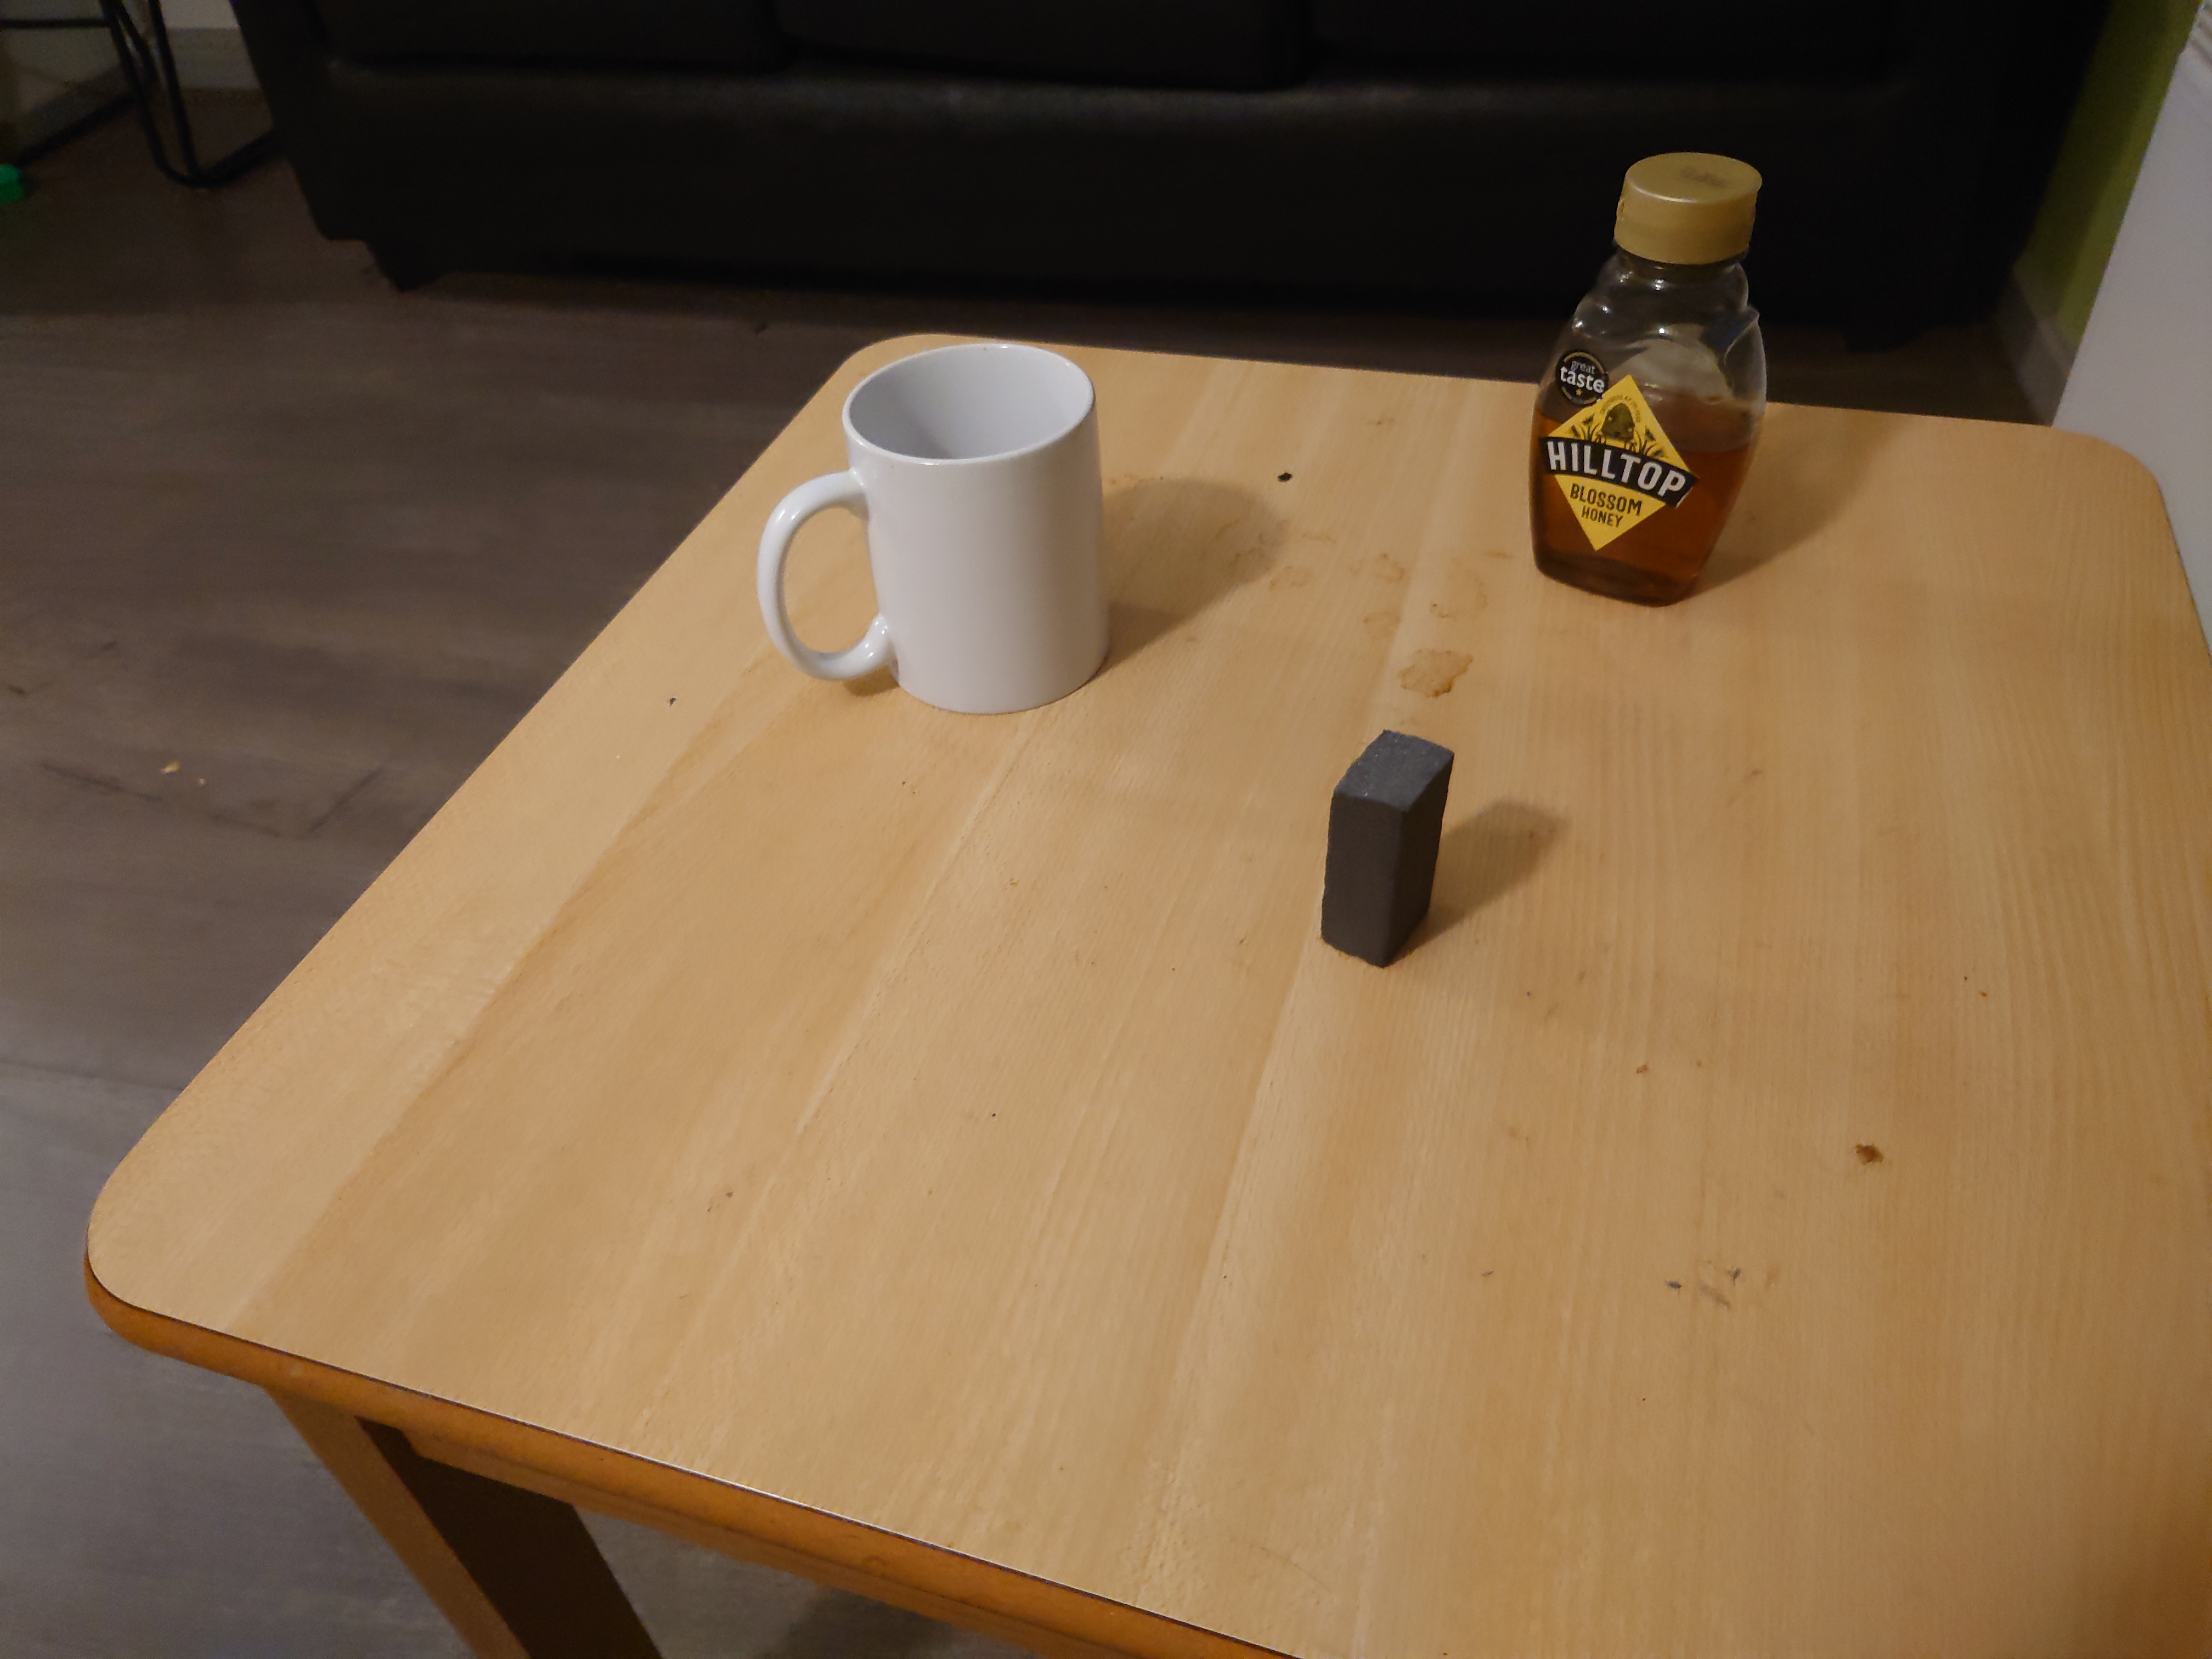cup: (754, 336, 1115, 714)
target: (1312, 723, 1456, 962)
